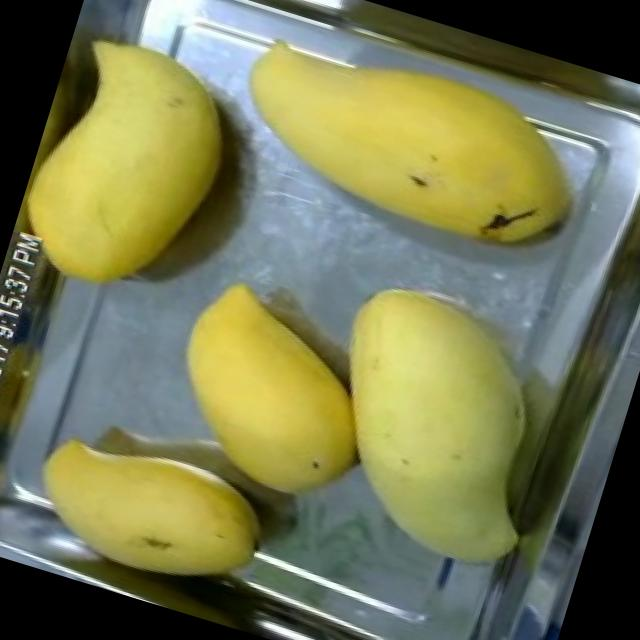fruit: (211, 8, 604, 282), (278, 256, 580, 586), (3, 7, 266, 327), (140, 257, 410, 529), (10, 406, 292, 618)
